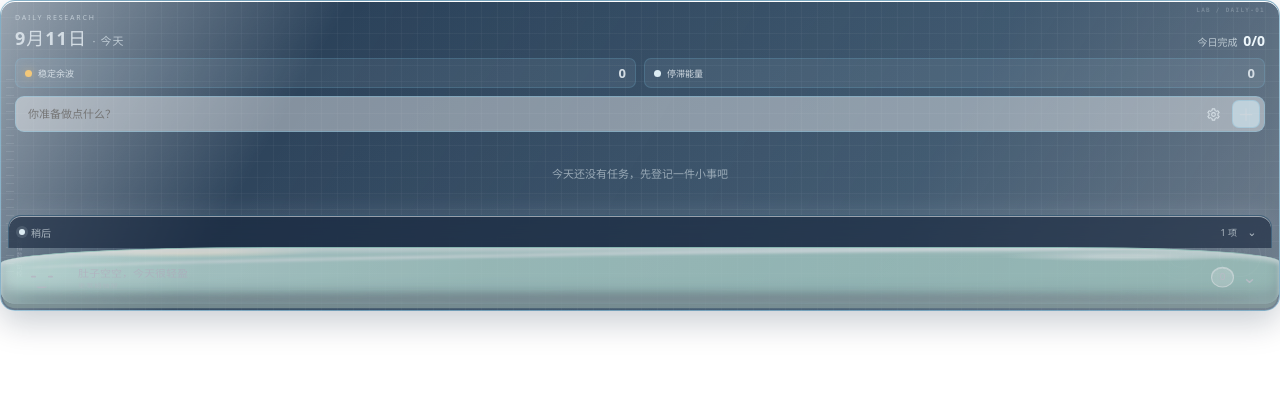
TodayTaskBoard › 稍后任务使用简洁入口而不显示快捷工具
Click the text "稍后" at (35, 232), box [19, 226, 51, 240]
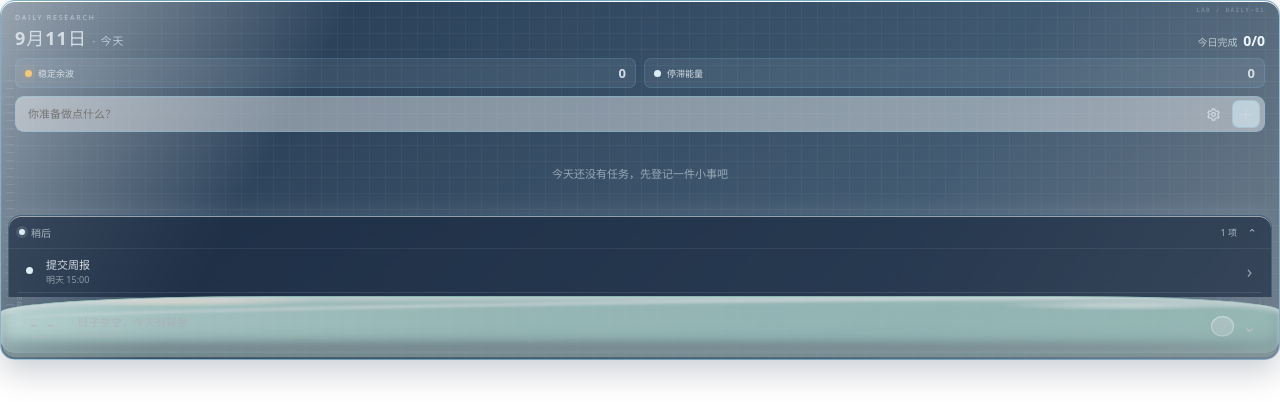
Now the text "明天 15:00" is shown, box [46, 272, 89, 286]
Now the button named "查看 提交周报" is shown, box [1237, 258, 1262, 283]
